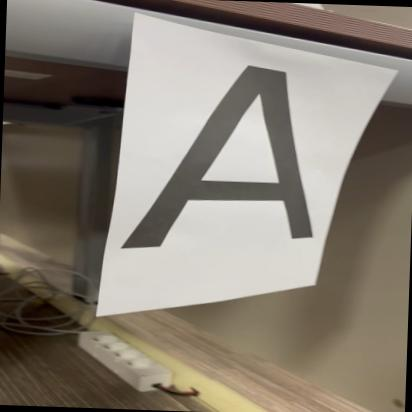seat: (118, 52, 331, 266)
